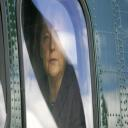helicopter: (2, 2, 128, 128)
